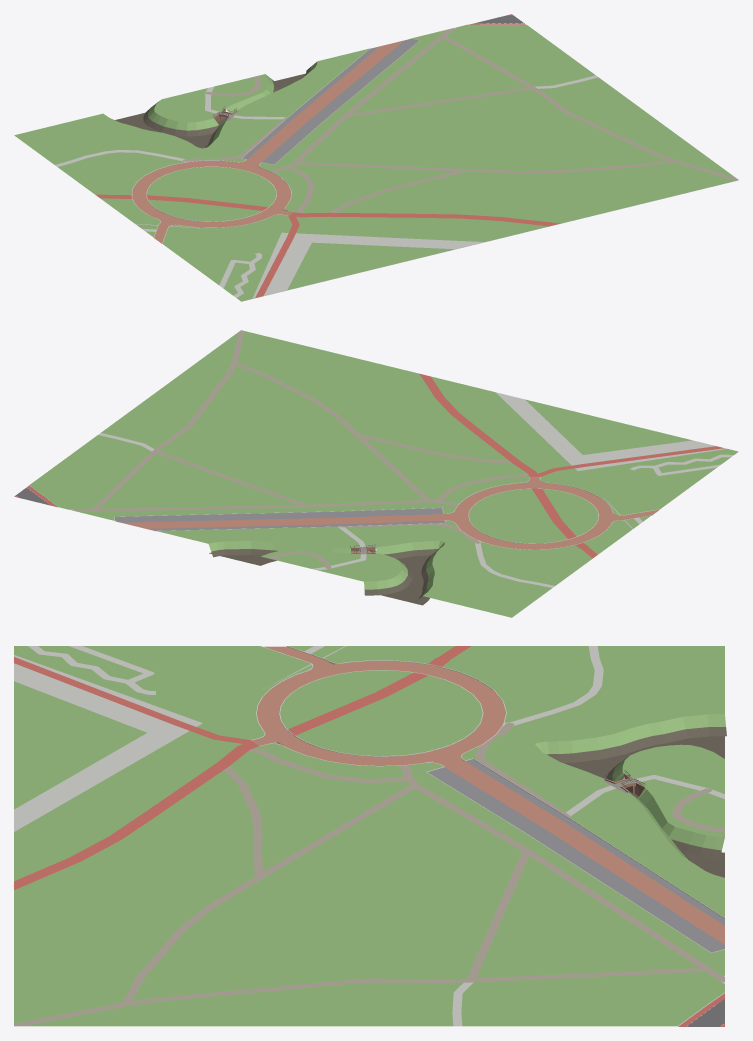
File: ground_4_13.glb
3 views of the same model, one above another, from view 1: azimuth 30°, elevation 25°; view 2: azimuth 150°, elevation 25°; view 3: azimuth 270°, elevation 25° (orthographic). The views are drawn at different scales.
Parts seen in each view (by area): view 1: ground_4_13; view 2: ground_4_13; view 3: ground_4_13.
Part boxes in pixels (bbox=[...]): ground_4_13: bbox=[14, 14, 738, 301]; ground_4_13: bbox=[14, 330, 738, 617]; ground_4_13: bbox=[14, 646, 726, 1026].
Size of the model in its own units: 200 by 4.87 by 161.
